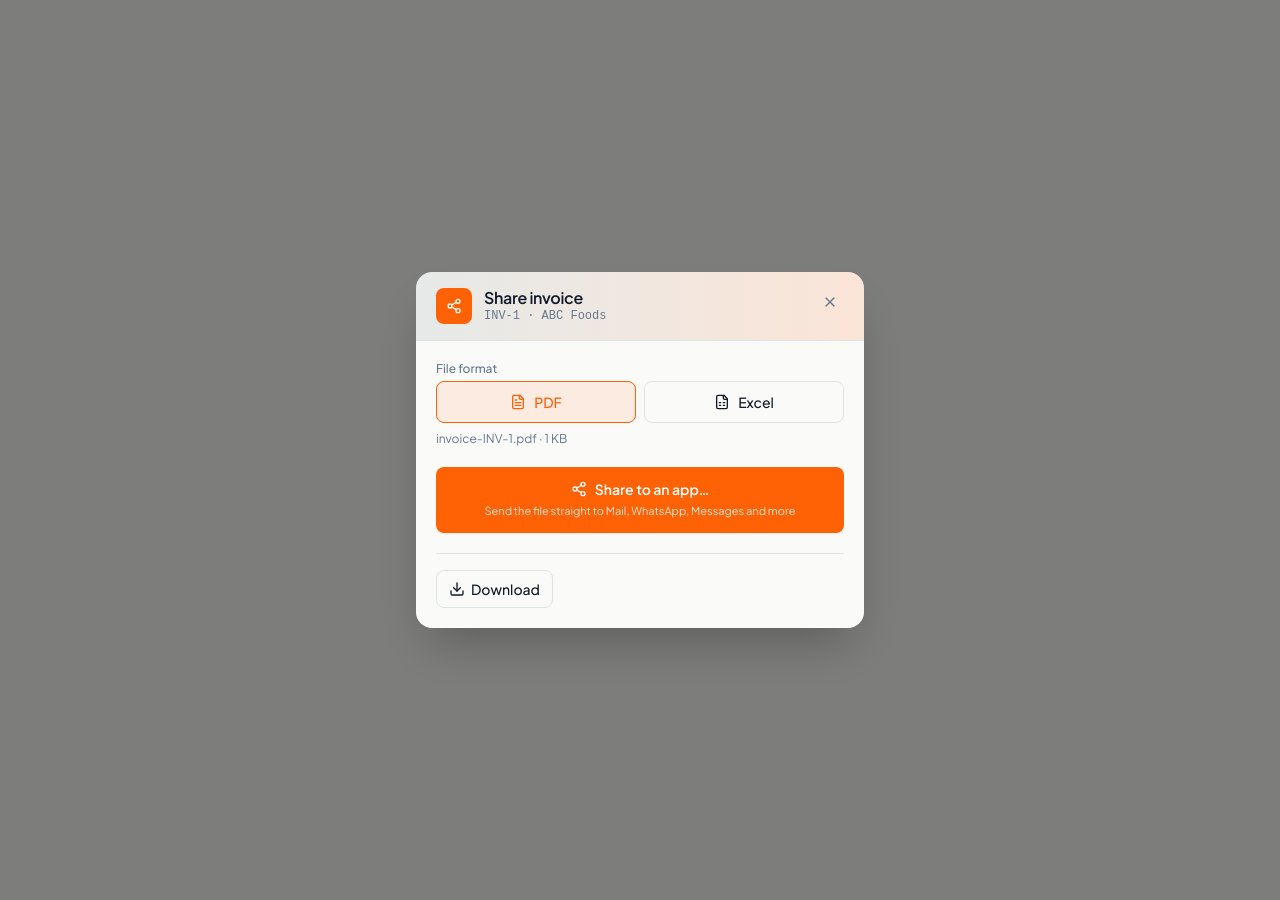
ShareInvoiceDialog when the browser refuses a file type (Excel in Chrome and Brave) › explains when the browser says "Permission denied" at the last moment, without downloading
Click the button "Share to an app" at x=640, y=500, box [436,467,844,533]
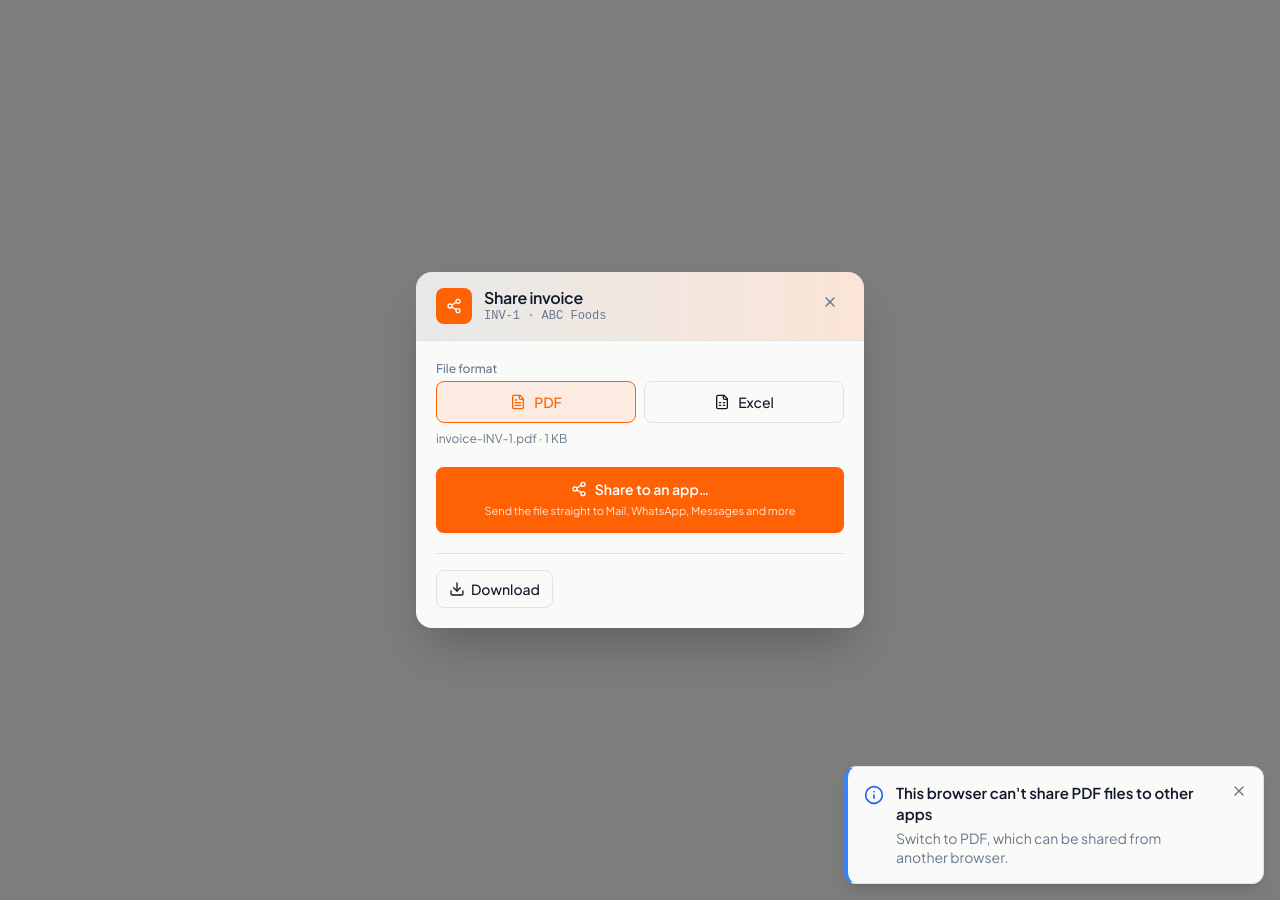
Expected: the text "This browser can't share PDF files to other apps" is shown, [896,783,1215,825]
